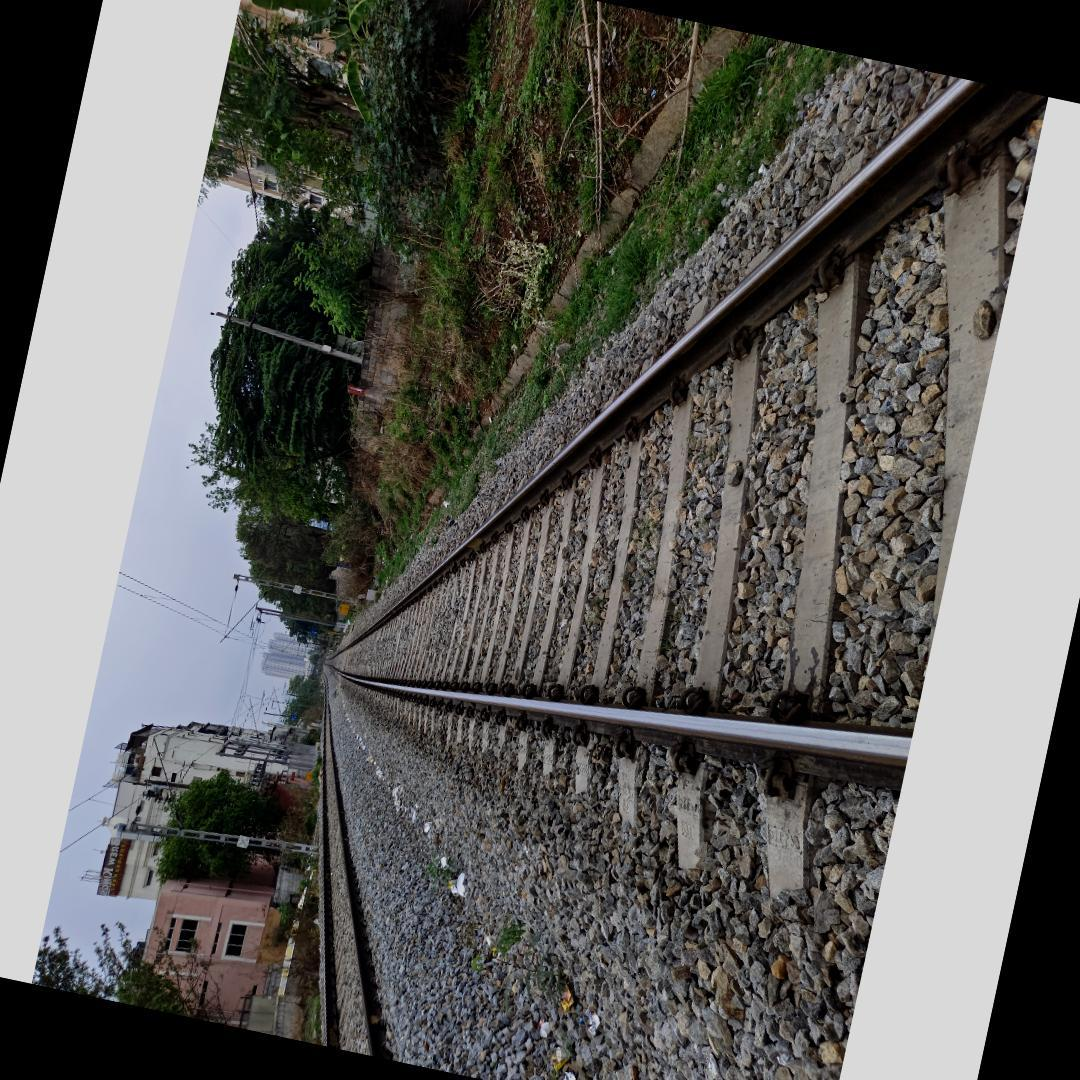standing: (36, 0, 1045, 1080)
track: (309, 75, 1047, 781)
